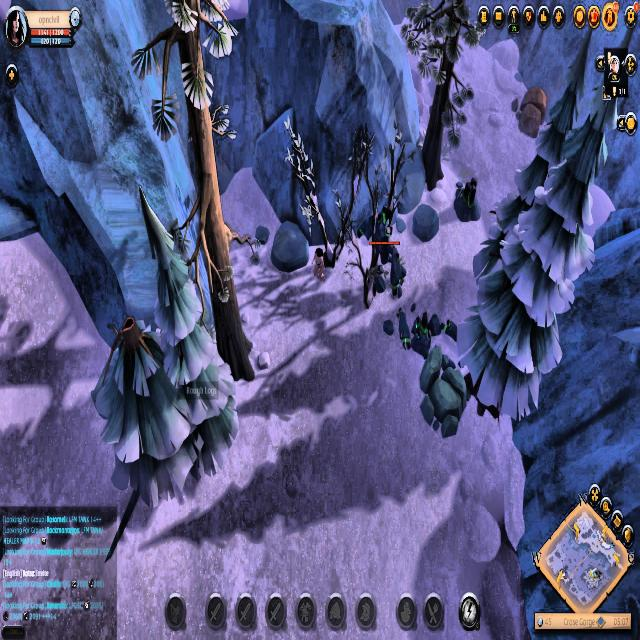limestone: (507, 85, 556, 138)
sandstone: (418, 338, 472, 439)
tin_ore: (453, 168, 483, 227)
